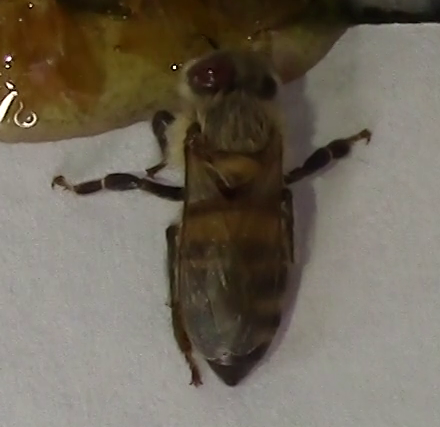Varroa destructor: (182, 51, 241, 96)
